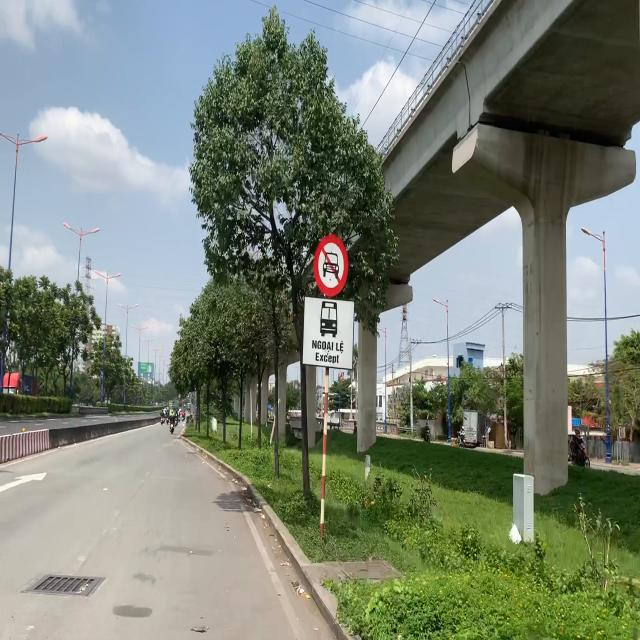Cam con lai: (312, 235, 352, 302)
